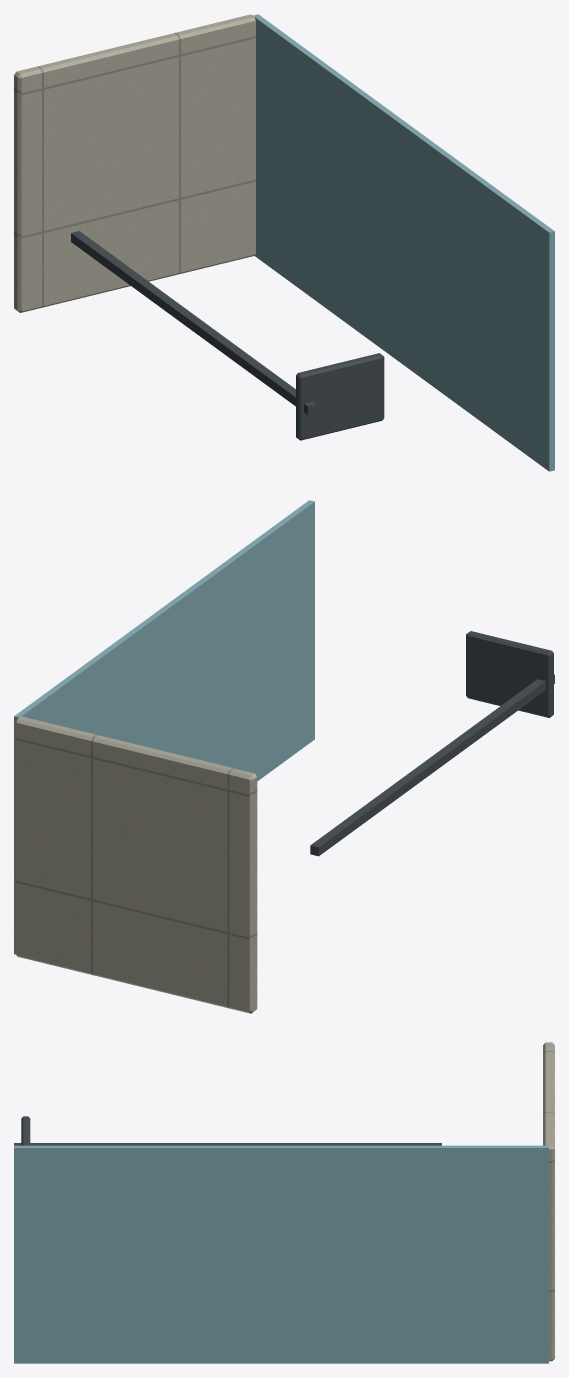
The model's file is shared_bath_shower.obj.
3 renders of one model, top to bottom at view 1: azimuth 30°, elevation 25°; view 2: azimuth 150°, elevation 25°; view 3: azimuth 270°, elevation 25°, orthographic. The views are drawn at different scales.
Parts seen in each view (by area): view 1: shared_bath_shower_glass, shared_bath_shower_tile, shared_bath_shower_metal; view 2: shared_bath_shower_tile, shared_bath_shower_glass, shared_bath_shower_metal; view 3: shared_bath_shower_glass, shared_bath_shower_tile, shared_bath_shower_metal.
Boxes of the visible parts, left/top/right/bottom form: shared_bath_shower_glass: left=253, top=14, right=554, bottom=471; shared_bath_shower_tile: left=14, top=14, right=255, bottom=312; shared_bath_shower_metal: left=71, top=231, right=384, bottom=440; shared_bath_shower_tile: left=15, top=716, right=257, bottom=1013; shared_bath_shower_glass: left=14, top=500, right=314, bottom=954; shared_bath_shower_metal: left=310, top=631, right=554, bottom=856; shared_bath_shower_glass: left=14, top=1145, right=548, bottom=1363; shared_bath_shower_tile: left=543, top=1042, right=554, bottom=1361; shared_bath_shower_metal: left=14, top=1116, right=441, bottom=1145.
Size of the model in its own units: 44 by 40 by 91.
Materials: 3 (3 with a texture image).
